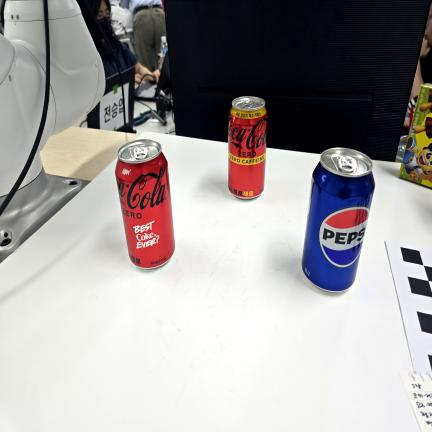can_coke_decaf: (227, 95, 267, 199)
can_coke_zero: (114, 138, 175, 268)
can_pepsi: (302, 146, 375, 296)
